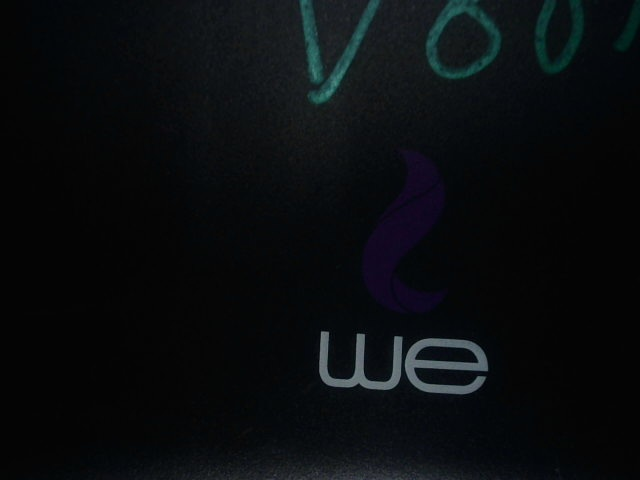AT_We: (310, 142, 495, 406)
